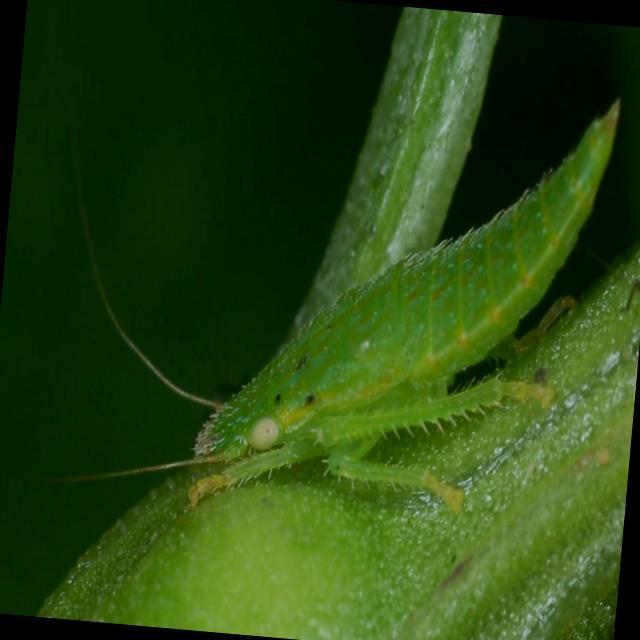green leaf hopper: (43, 101, 619, 506)
